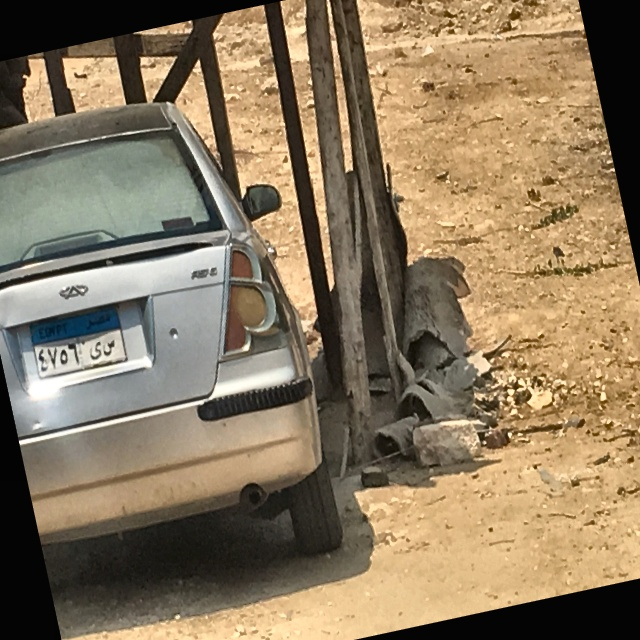License Plate: (25, 303, 130, 382)
